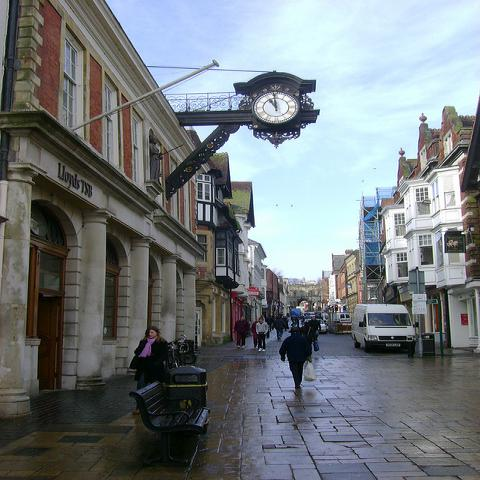car: (303, 318, 327, 334)
truck: (352, 303, 417, 357)
